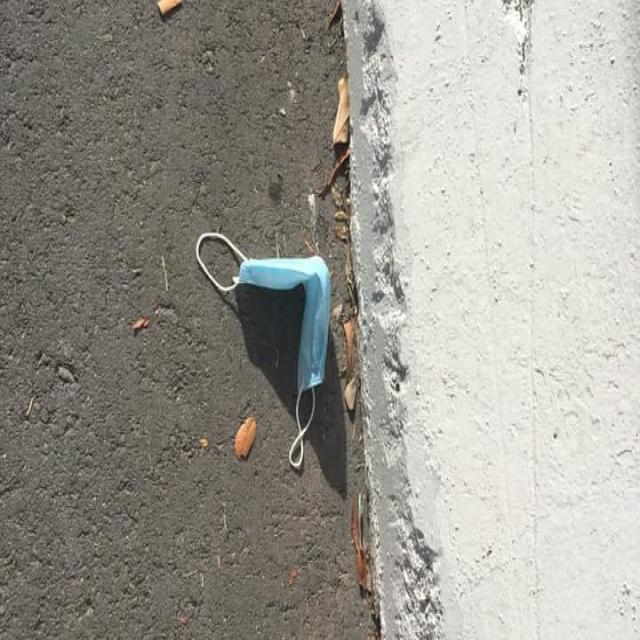non-organic waste: (198, 215, 326, 469)
